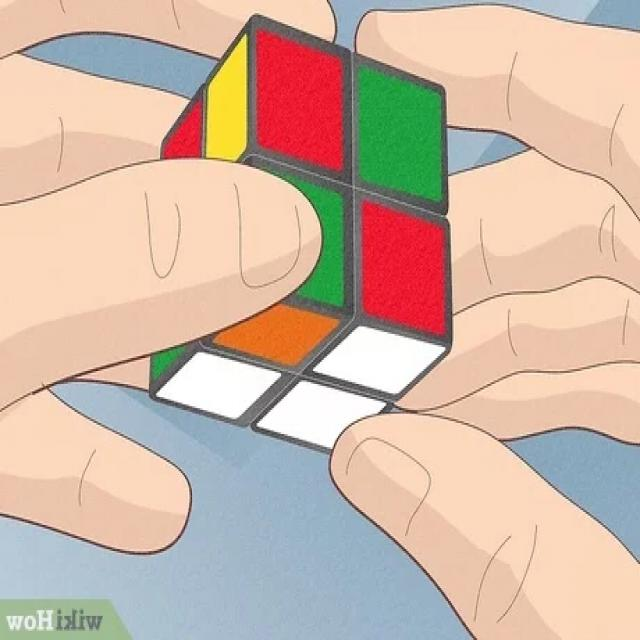cube: (168, 76, 440, 413)
